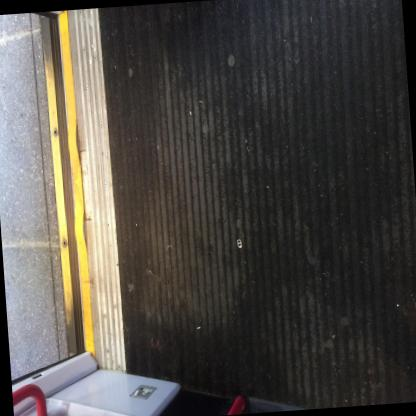Metal: (237, 238, 242, 247)
